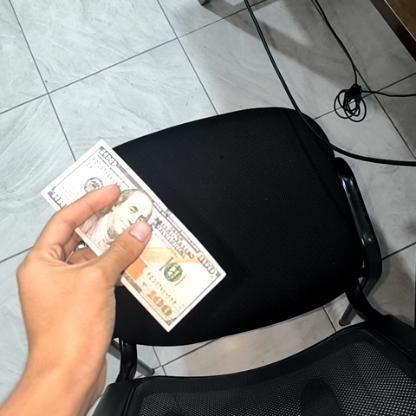one_hundred-front: (38, 137, 227, 333)
